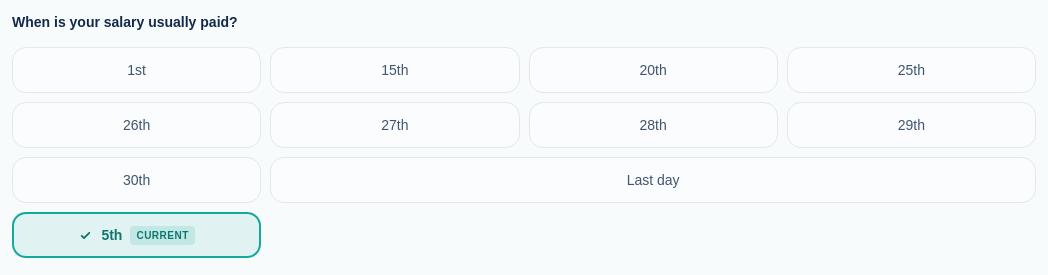
Test: SalaryDayPicker — grandfathered legacy values › grandfathered pill becomes unselectable once the user picks an allowed day
Click the radio button labelled "25th": point(911, 70) [787,47,1036,93]
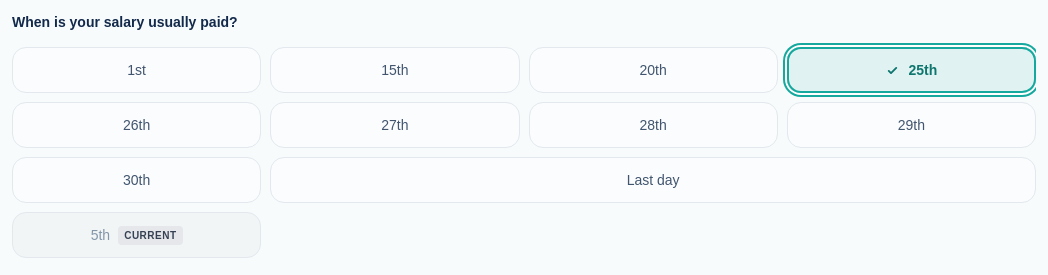
Now the radio button labelled "5th current" is disabled, box [12,212,261,258]
